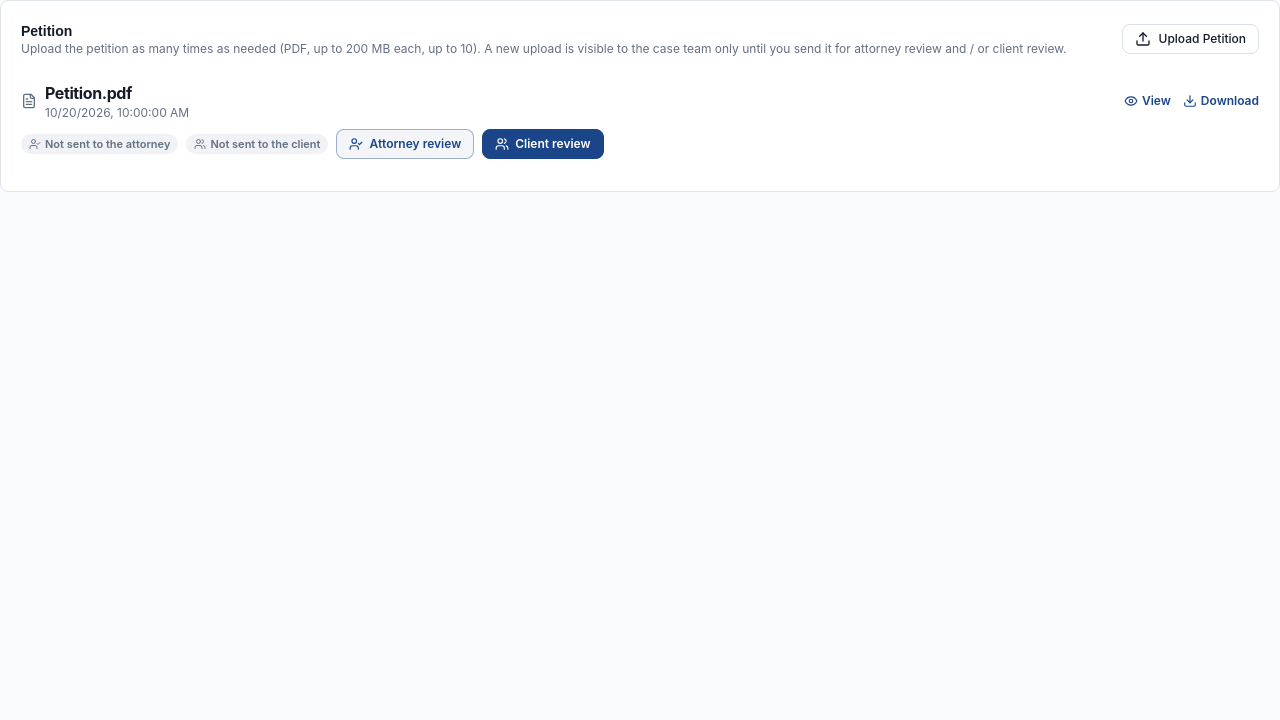
PetitionUploadPanel › a refusal from the server is shown to the case manager
Click the button "Client review": (543, 144) x1=482 y1=129 x2=604 y2=159
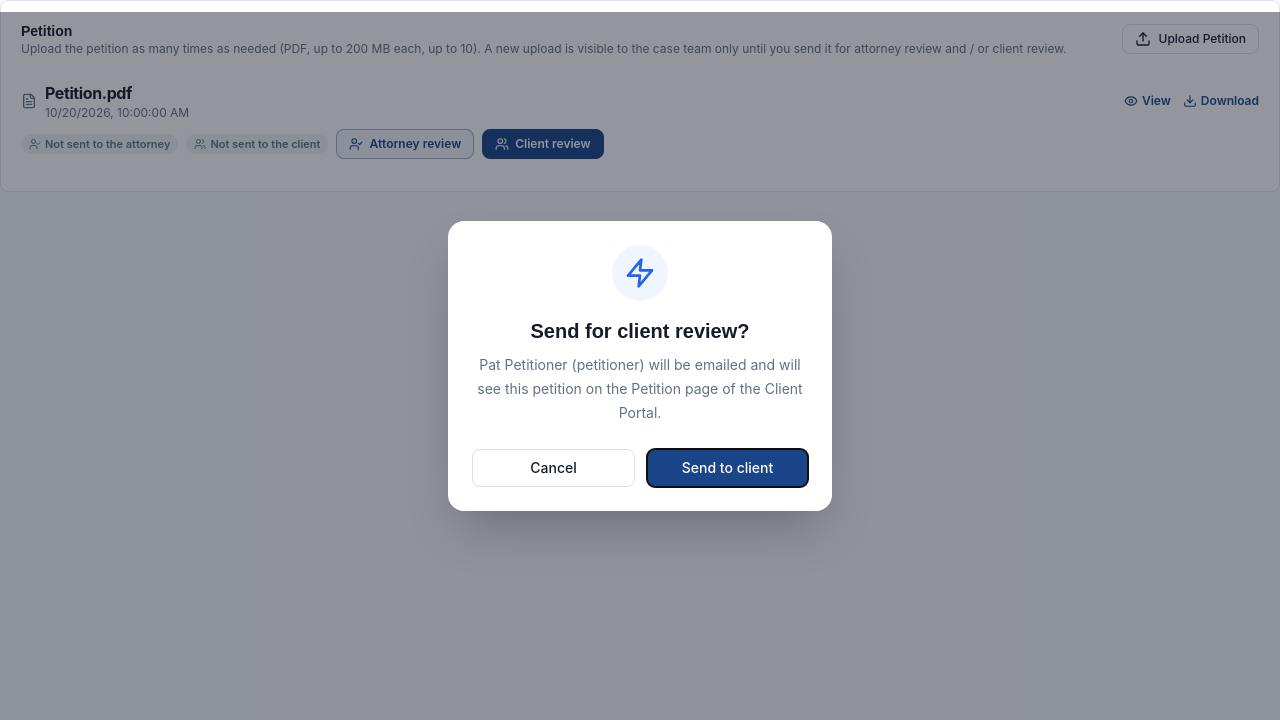
Click the button "Send to client": (728, 468) x1=647 y1=449 x2=808 y2=487
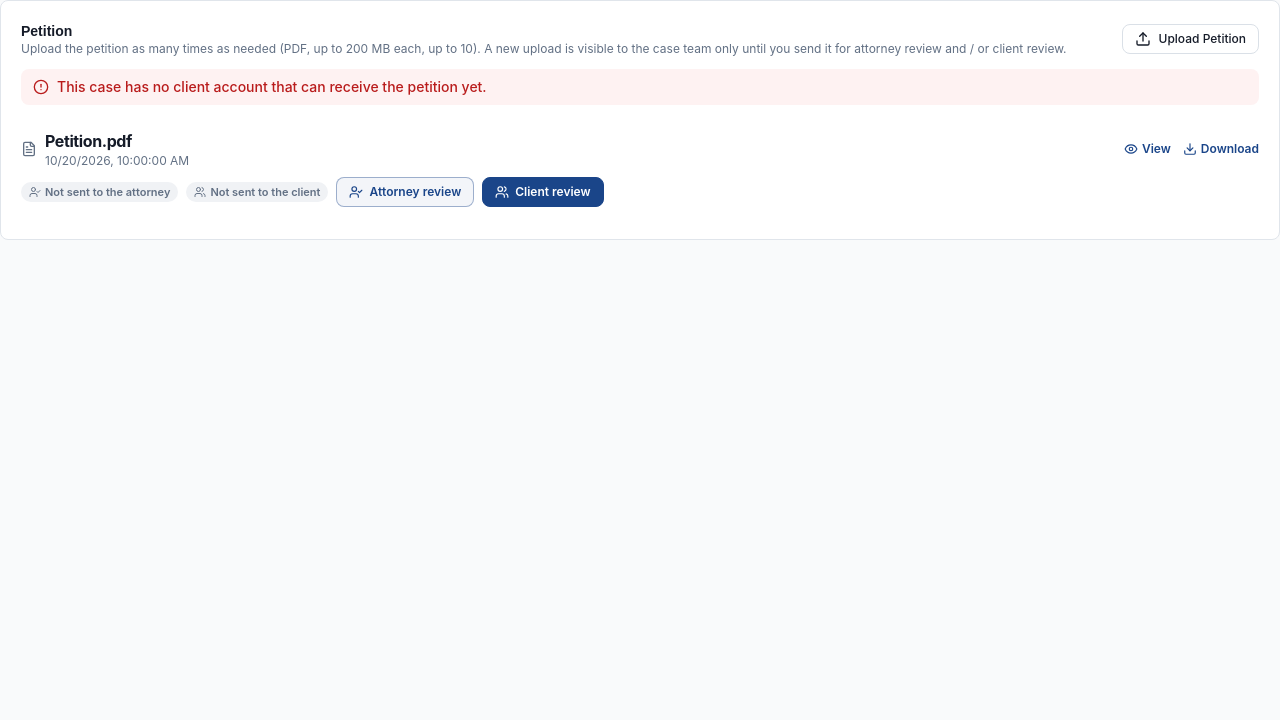
Now the text "no client account that can receive the petition" is shown, box x1=57 y1=78 x2=487 y2=95
